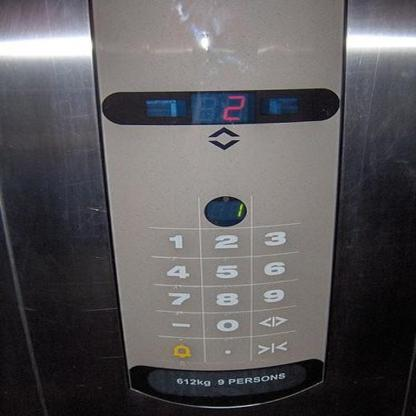-: (152, 306, 208, 340), (197, 334, 253, 366)
0: (197, 308, 254, 340)
1: (146, 224, 204, 259)
2: (197, 225, 256, 260)
3: (248, 221, 307, 256)
4: (146, 254, 204, 288)
5: (197, 254, 254, 286)
6: (246, 250, 302, 286)
7: (146, 280, 206, 315)
8: (196, 283, 256, 315)
9: (247, 278, 299, 310)
alarm: (152, 335, 208, 365)
close: (246, 329, 302, 364)
led: (100, 88, 339, 125), (193, 191, 250, 228)
open: (246, 303, 298, 337)
